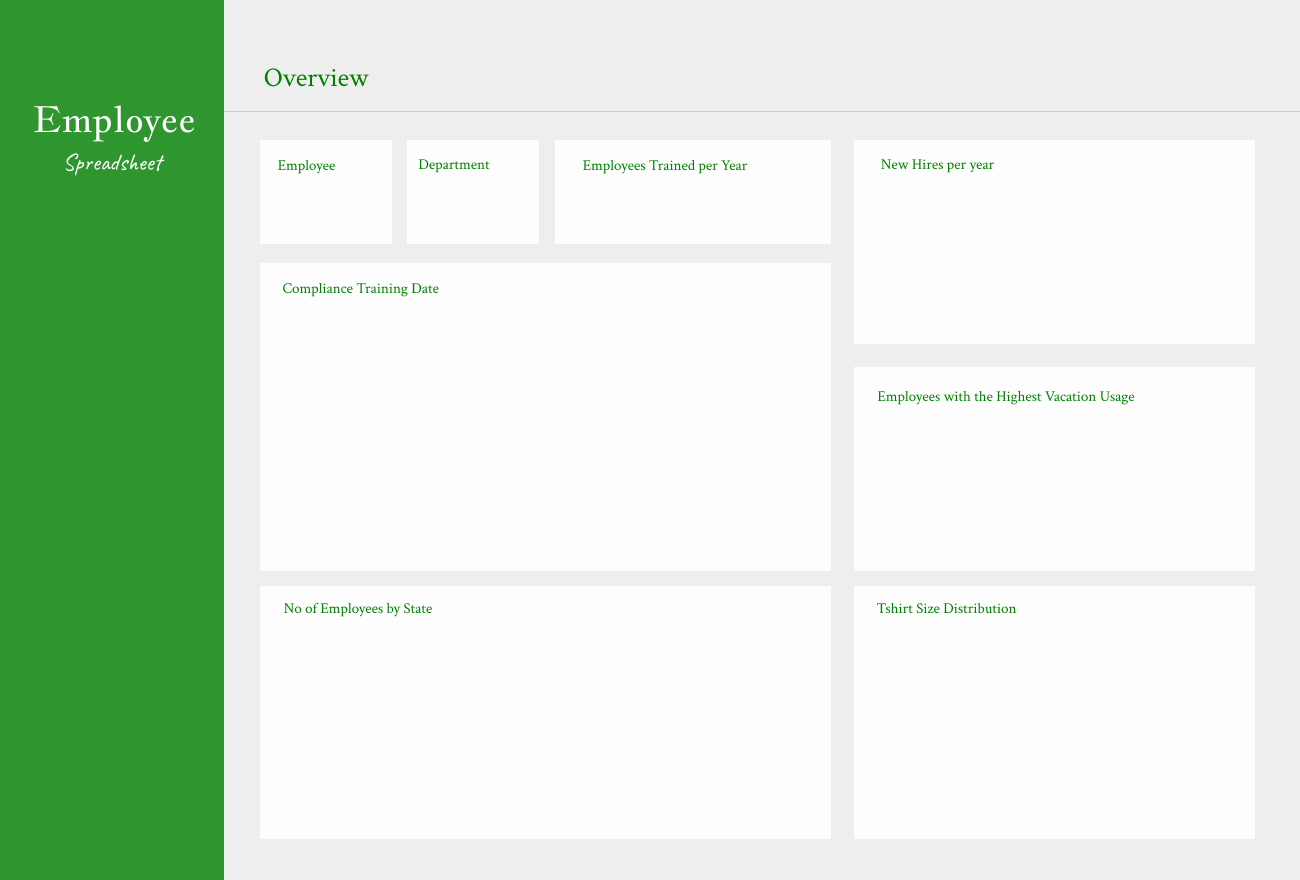

What the dashboard file says about the page in this screenshot:
{"tool":"tableau","page":{"name":"Employee Spreadsheet","canvas":[1300,880],"ordinal":0},"visuals":[{"type":"image","param":"Image/Employee Spreadsheet.png","box":[0,0,1300,880]},{"type":"worksheet","title":"Department","mark":"Automatic","box":[410,143,126,100]},{"type":"worksheet","title":"Employee","mark":"Automatic","box":[263,145,131,96]},{"type":"worksheet","title":"Employee start day","mark":"Automatic","rows":["Employees_862689C2216447D6867537C8203FBF5E"],"cols":["start_date"],"box":[877,181,370,154]},{"type":"worksheet","title":"Complaince training trend","mark":"Bar","rows":["date_complete"],"cols":["ComplianceTraining_8C610F06162544F687DB758A9F159524"],"box":[563,183,258,90]},{"type":"worksheet","title":"Employee who have been trained","mark":"Automatic","rows":["first_name","last_name"],"box":[284,308,532,255]},{"type":"worksheet","title":"top 10 Employeee vacation","mark":"Automatic","rows":["first_name"],"cols":["vacation_taken"],"box":[864,423,382,140]},{"type":"worksheet","title":"No of employee in each department","mark":"Automatic","box":[279,630,526,202]},{"type":"worksheet","title":"Employee tshirt size","mark":"Automatic","box":[891,635,351,184]}]}

Visuals, with their boxes in screenshot pixels (x1, y1, x2, y2), scaled from the page's 1300x880 canvas onto the 1300x880 screenshot:
image: [0, 0, 1299, 879]
"Department" worksheet: [410, 143, 536, 243]
"Employee" worksheet: [263, 145, 394, 241]
"Employee start day" worksheet: [877, 181, 1247, 335]
"Complaince training trend" worksheet (Bar marks): [563, 183, 821, 273]
"Employee who have been trained" worksheet: [284, 308, 816, 563]
"top 10 Employeee vacation" worksheet: [864, 423, 1246, 563]
"No of employee in each department" worksheet: [279, 630, 805, 832]
"Employee tshirt size" worksheet: [891, 635, 1242, 819]
